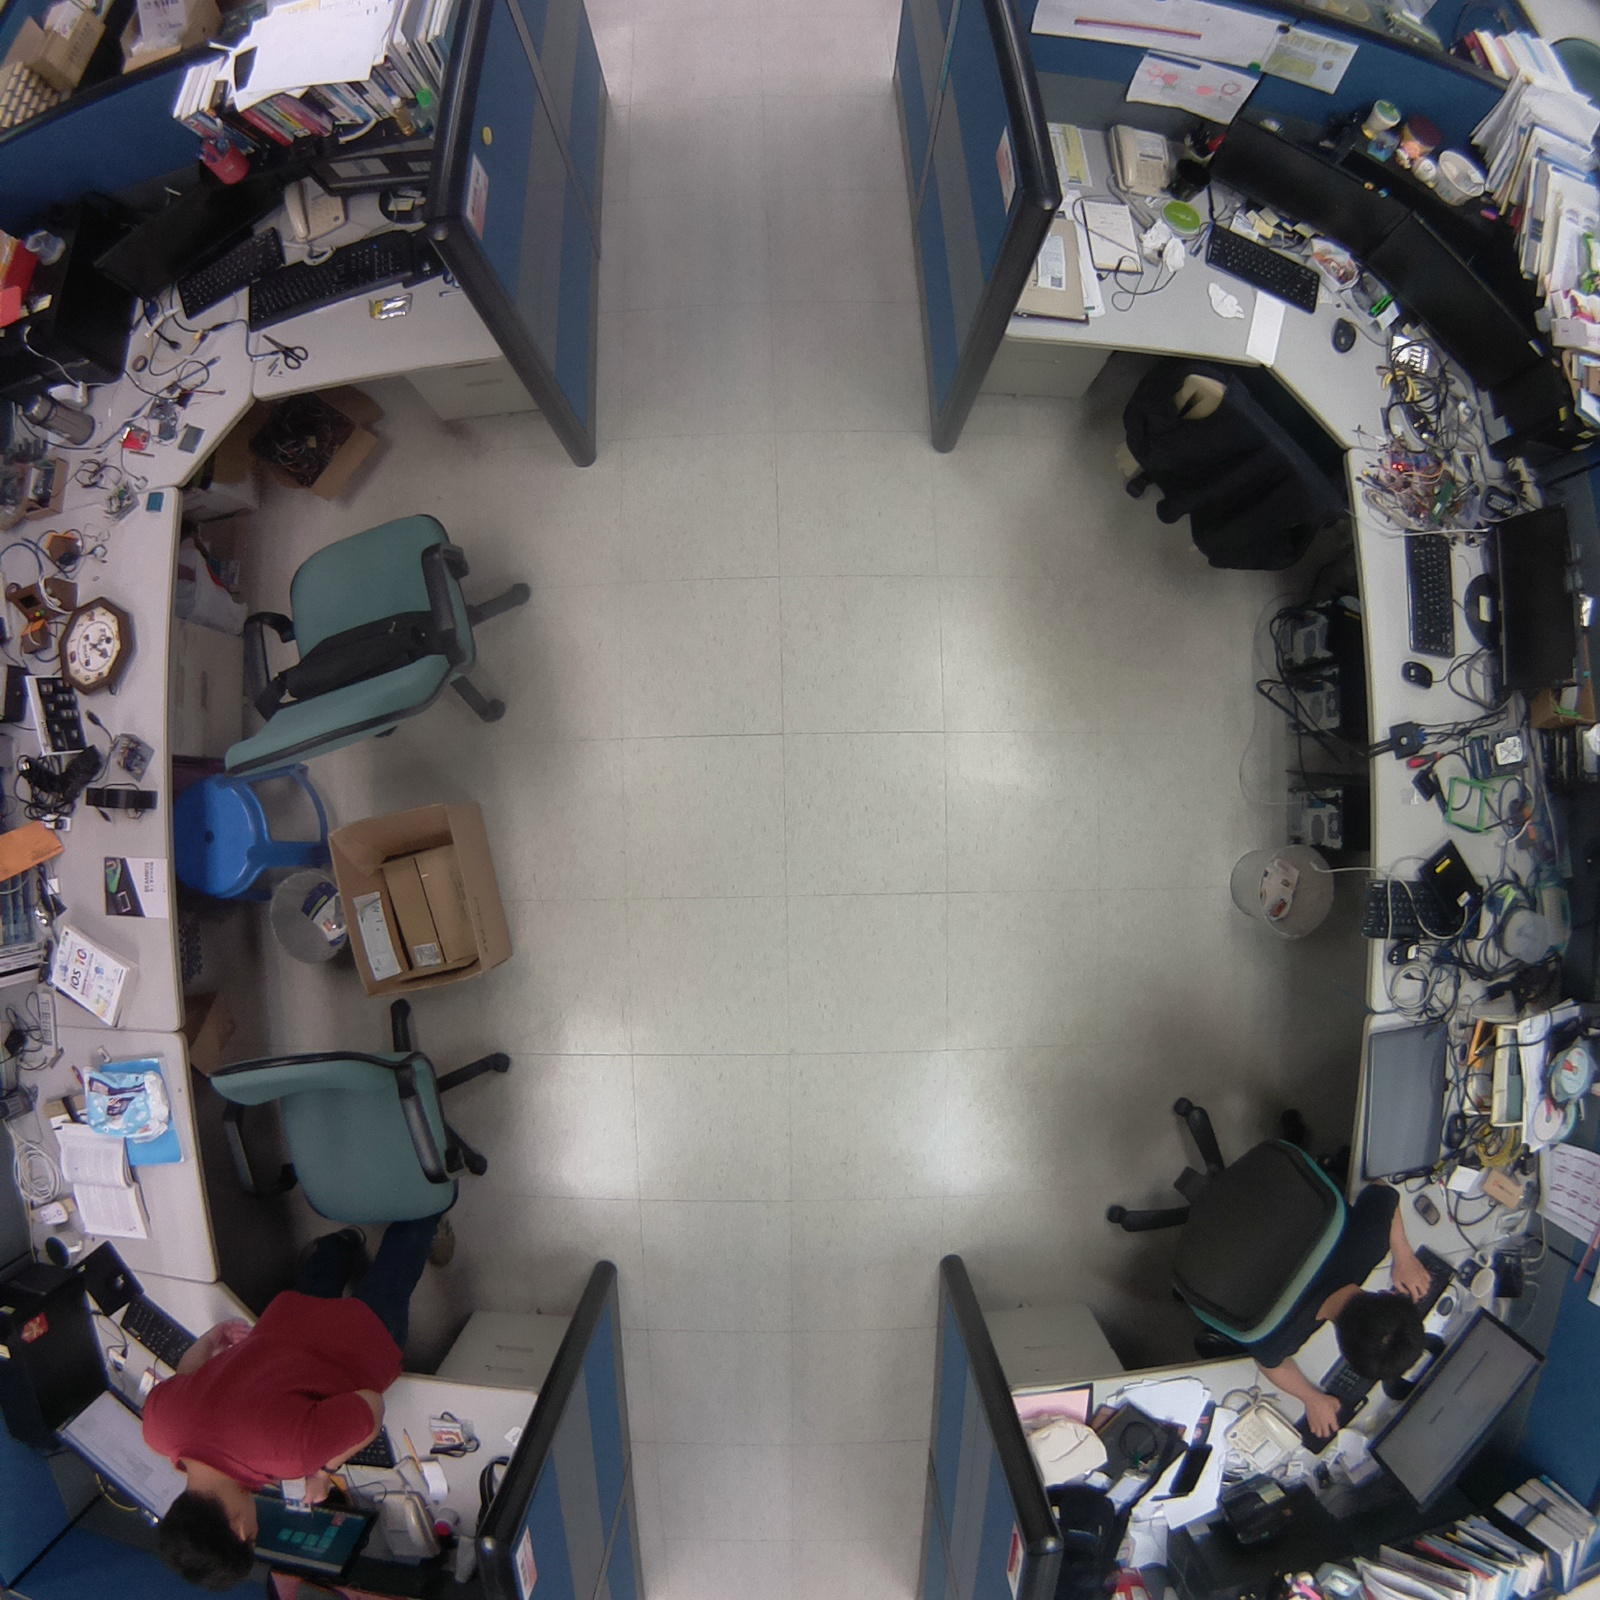chair: (217, 483, 563, 793), (201, 978, 522, 1247), (1112, 334, 1368, 591)
head: (152, 1484, 264, 1594), (1323, 1284, 1435, 1388)
sitting: (1096, 1081, 1461, 1457), (123, 1201, 458, 1600)
